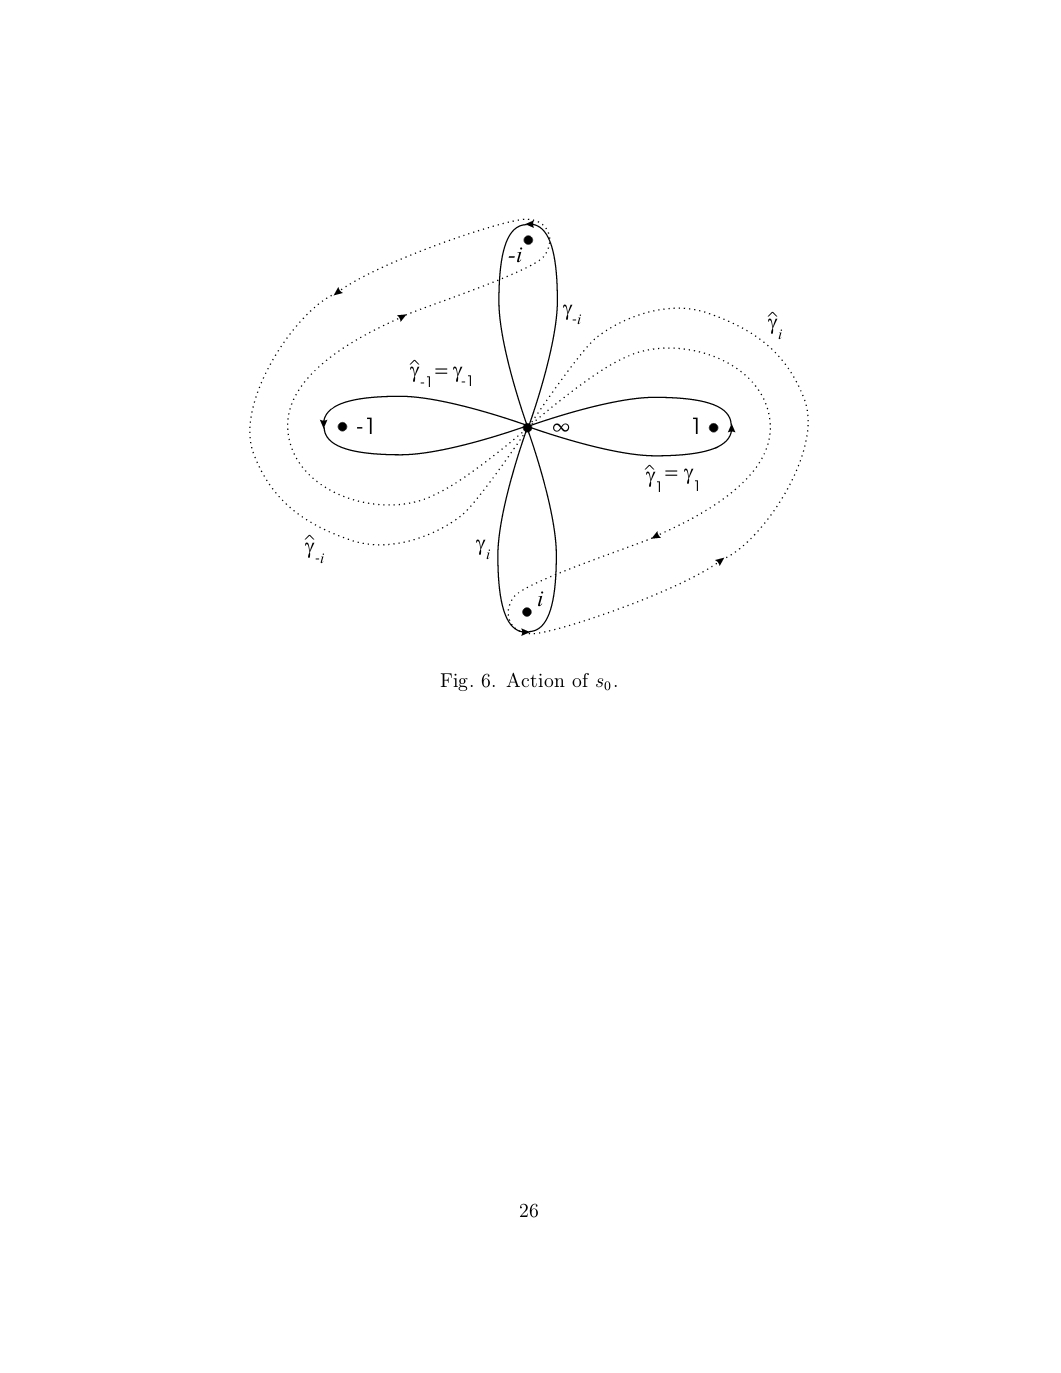figure: (249, 217, 808, 636)
